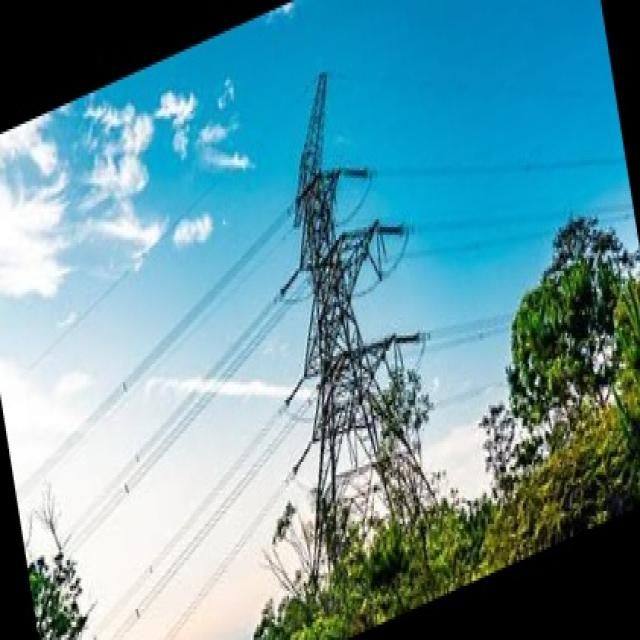utility poles: (480, 156, 613, 354), (326, 341, 454, 489)
